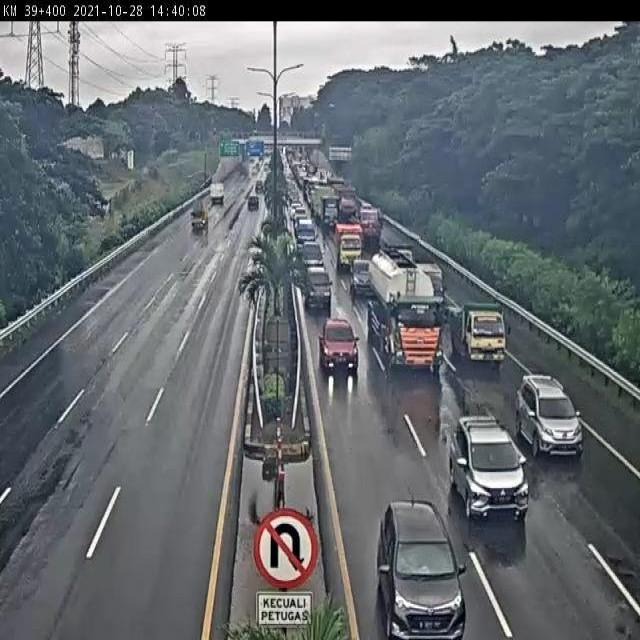car: (374, 498, 465, 640), (446, 415, 531, 520), (516, 374, 584, 462), (320, 320, 357, 369), (304, 269, 331, 308), (300, 238, 323, 274), (348, 258, 372, 290)
small truck: (185, 199, 208, 232)
truck-m-: (450, 304, 508, 364), (334, 223, 364, 272)
truck-xl-: (369, 255, 444, 372)
